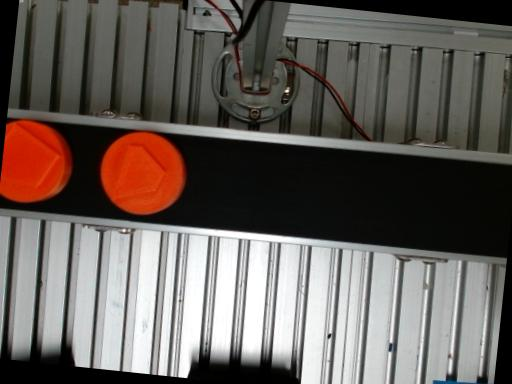Not_Square: (111, 144, 166, 198)
Orange_Waper: (100, 132, 186, 215), (0, 120, 71, 201)
